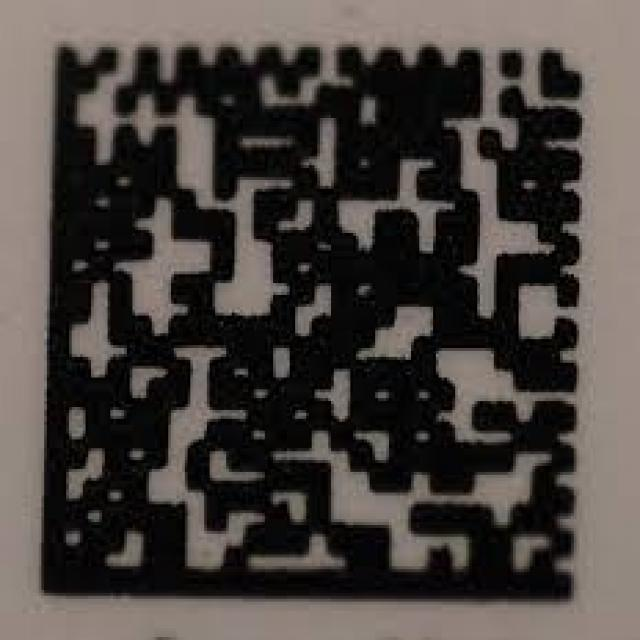Data-Matrix: (28, 24, 588, 611)
